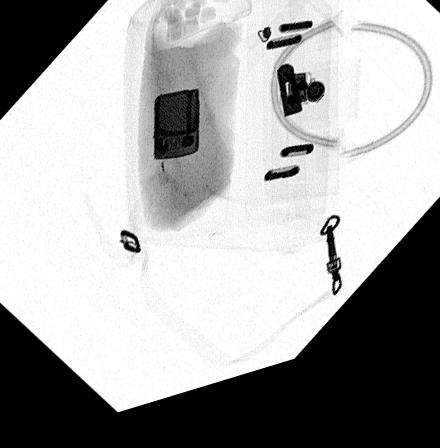Lighter: (152, 99, 199, 169)
